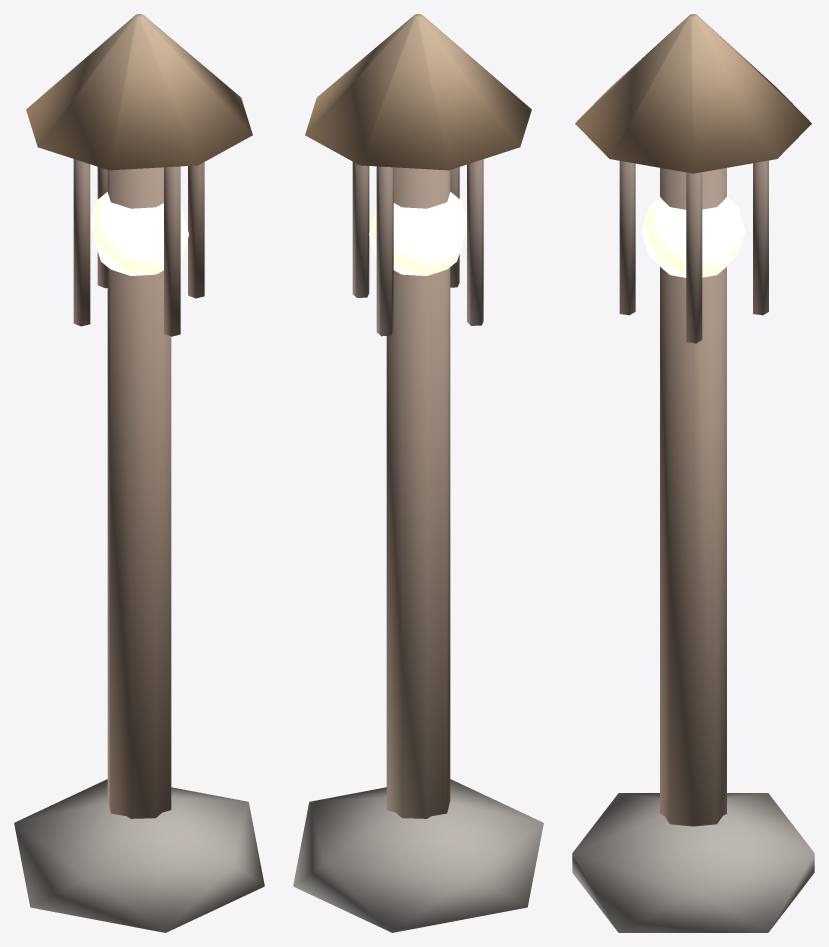
The model's file is lantern.glb.
3 views of the same model, side by side, from view 1: azimuth 30°, elevation 25°; view 2: azimuth 150°, elevation 25°; view 3: azimuth 270°, elevation 25° (orthographic).
Parts seen in each view (by area): view 1: Post, Base, Cap, GlowFlame, Bar.002, Bar.003, Bar, Bar.001; view 2: Post, Base, Cap, GlowFlame, Bar.001, Bar.002, Bar, Bar.003; view 3: Post, Base, Cap, GlowFlame, Bar, Bar.003, Bar.001.
Boxes of the visible parts, bbox=[...] form: Post: bbox=[107, 167, 171, 818]; Base: bbox=[14, 779, 264, 932]; Cap: bbox=[26, 14, 252, 170]; GlowFlame: bbox=[90, 192, 188, 275]; Bar.002: bbox=[73, 159, 90, 326]; Bar.003: bbox=[164, 166, 180, 336]; Bar: bbox=[188, 162, 204, 298]; Bar.001: bbox=[97, 167, 107, 288]; Post: bbox=[386, 167, 450, 818]; Base: bbox=[293, 779, 543, 932]; Cap: bbox=[305, 14, 531, 170]; GlowFlame: bbox=[369, 192, 466, 275]; Bar.001: bbox=[376, 166, 393, 336]; Bar.002: bbox=[467, 159, 483, 325]; Bar: bbox=[352, 162, 369, 297]; Bar.003: bbox=[450, 167, 459, 287]; Post: bbox=[660, 168, 726, 826]; Base: bbox=[572, 793, 814, 932]; Cap: bbox=[575, 14, 811, 173]; GlowFlame: bbox=[641, 196, 745, 277]; Bar: bbox=[686, 172, 702, 343]; Bar.003: bbox=[619, 161, 635, 315]; Bar.001: bbox=[753, 160, 768, 315].
Bounding box in the file's own units: 0.3435 × 1.35 × 0.3266.
